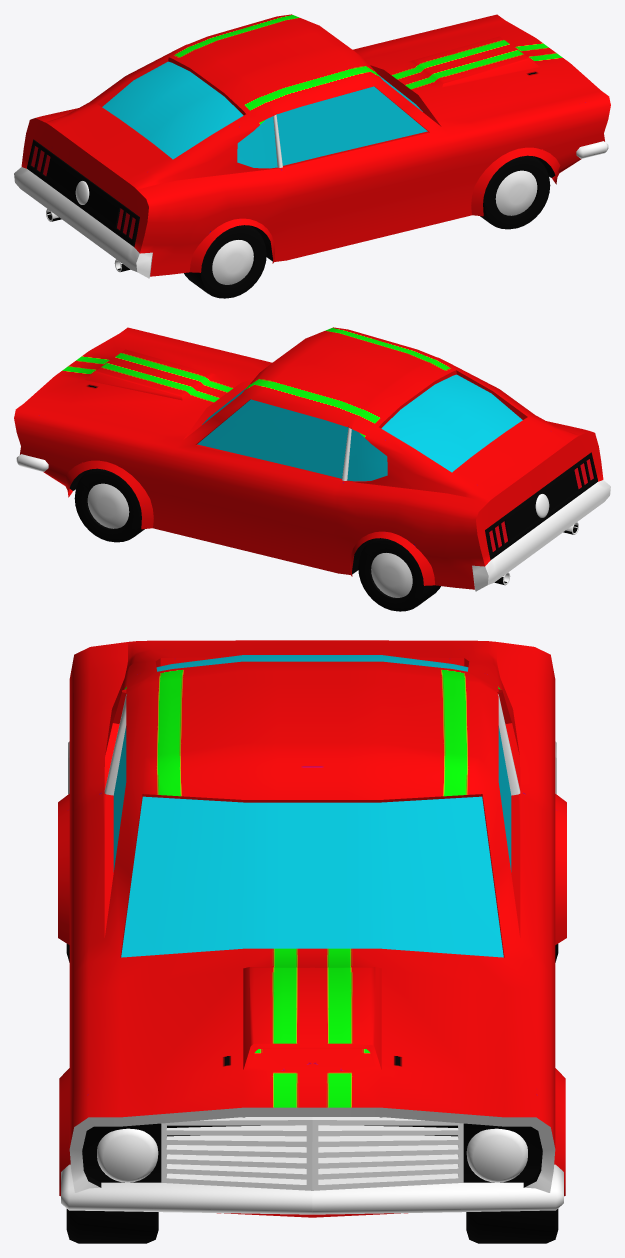
File: FahadTestMuscleCar.fbx
3 views of the same model, one above another, from view 1: azimuth 30°, elevation 25°; view 2: azimuth 150°, elevation 25°; view 3: azimuth 270°, elevation 25° (orthographic). The views are drawn at different scales.
Visible parts, largest first — view 1: MuscleCar, BR_WHEEL, FR_WHEEL; view 2: MuscleCar, BL_WHEEL, FL_WHEEL; view 3: MuscleCar, FL_WHEEL, FR_WHEEL.
Part boxes in pixels (bbox=[...]): MuscleCar: bbox=[14, 14, 610, 278]; BR_WHEEL: bbox=[184, 225, 266, 298]; FR_WHEEL: bbox=[480, 155, 550, 229]; MuscleCar: bbox=[14, 327, 610, 591]; BL_WHEEL: bbox=[358, 538, 440, 611]; FL_WHEEL: bbox=[74, 468, 144, 542]; MuscleCar: bbox=[58, 640, 566, 1217]; FL_WHEEL: bbox=[466, 1209, 558, 1243]; FR_WHEEL: bbox=[66, 1209, 158, 1243].
Size of the model in its own units: 398 by 143 by 184.
